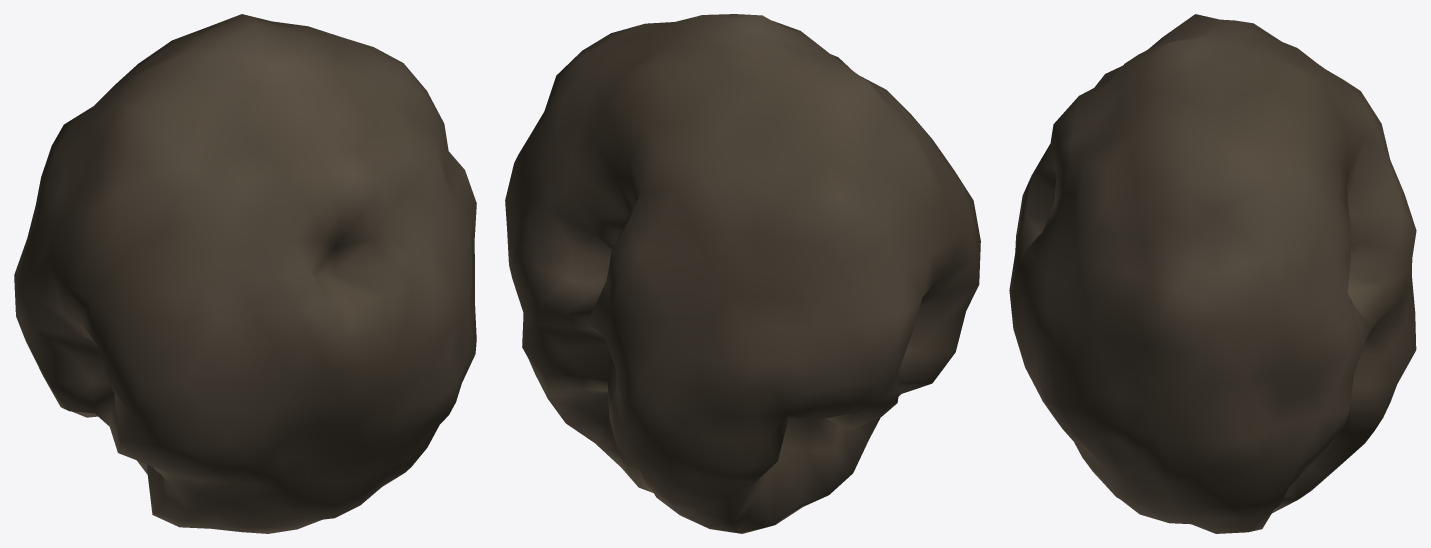
File: asteroid_med_11.glb
3 views of the same model, side by side, from view 1: azimuth 30°, elevation 25°; view 2: azimuth 150°, elevation 25°; view 3: azimuth 270°, elevation 25° (orthographic). The views are drawn at different scales.
Visible parts, largest first — view 1: asteroid_med_11; view 2: asteroid_med_11; view 3: asteroid_med_11.
Boxes of the visible parts, <box> form: asteroid_med_11: <box>14,14,476,533</box>; asteroid_med_11: <box>505,14,980,533</box>; asteroid_med_11: <box>1009,14,1416,533</box>.
Bounding box in the file's own units: 1.95 × 2.2 × 1.73.
